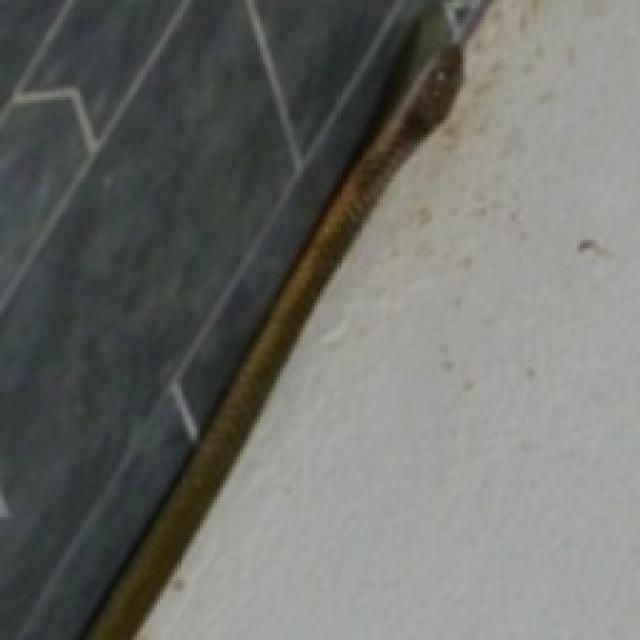king cobra: (0, 0, 431, 637)
